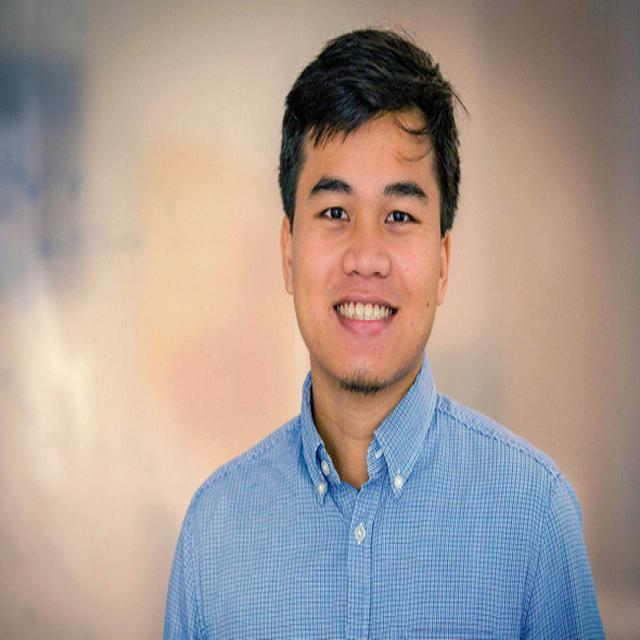Nonhelmet: (263, 15, 483, 406)
